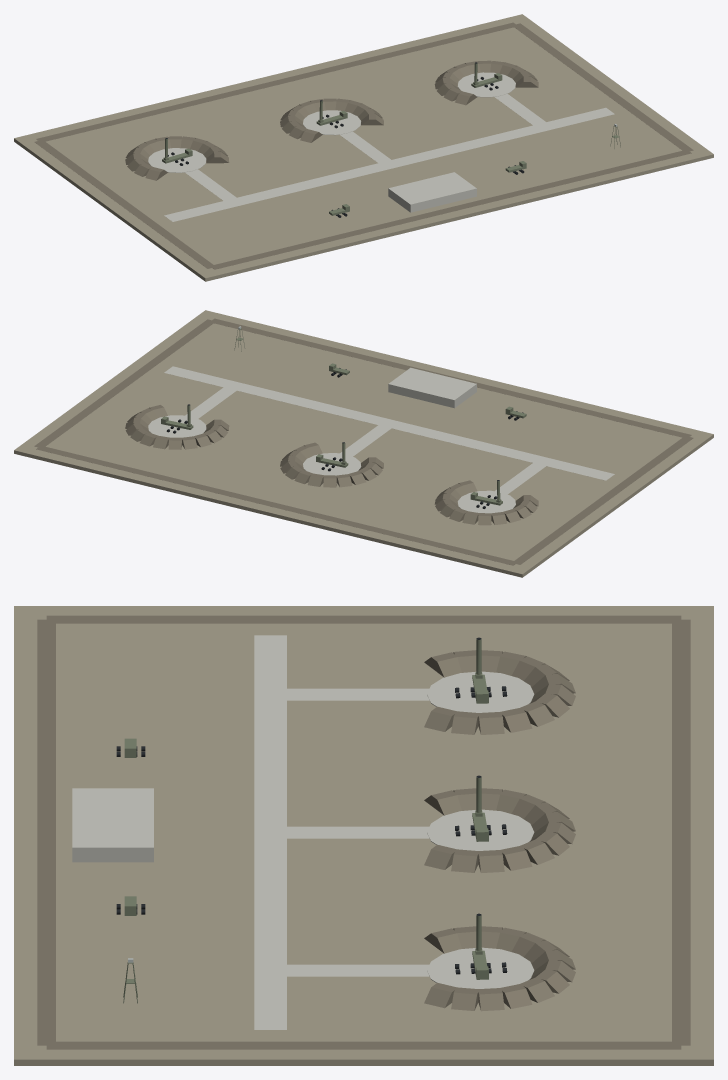
File: pla_asbm_df21d.glb
The picture shows the model from 3 angles, top to bottom: view 1: azimuth 30°, elevation 25°; view 2: azimuth 150°, elevation 25°; view 3: azimuth 270°, elevation 25°; orthographic projection. The views are drawn at different scales.
Visible parts, largest first — view 1: earth, earth_dark, concrete, drab; view 2: earth, earth_dark, concrete, drab; view 3: earth, earth_dark, concrete, drab, rubber.
Boxes of the visible parts, x1=… form: earth: x1=14, y1=14, x2=713, y2=281; earth_dark: x1=34, y1=22, x2=693, y2=269; concrete: x1=148, y1=72, x2=614, y2=221; drab: x1=162, y1=63, x2=620, y2=215; earth: x1=14, y1=310, x2=713, y2=577; earth_dark: x1=34, y1=318, x2=693, y2=565; concrete: x1=148, y1=366, x2=614, y2=513; drab: x1=161, y1=328, x2=526, y2=505; earth: x1=14, y1=606, x2=713, y2=1065; earth_dark: x1=37, y1=615, x2=690, y2=1049; concrete: x1=72, y1=635, x2=534, y2=1029; drab: x1=123, y1=638, x2=488, y2=1003; rubber: x1=116, y1=637, x2=507, y2=974.
Bounding box in the file's own units: 10 × 0.5397 × 6.52.
